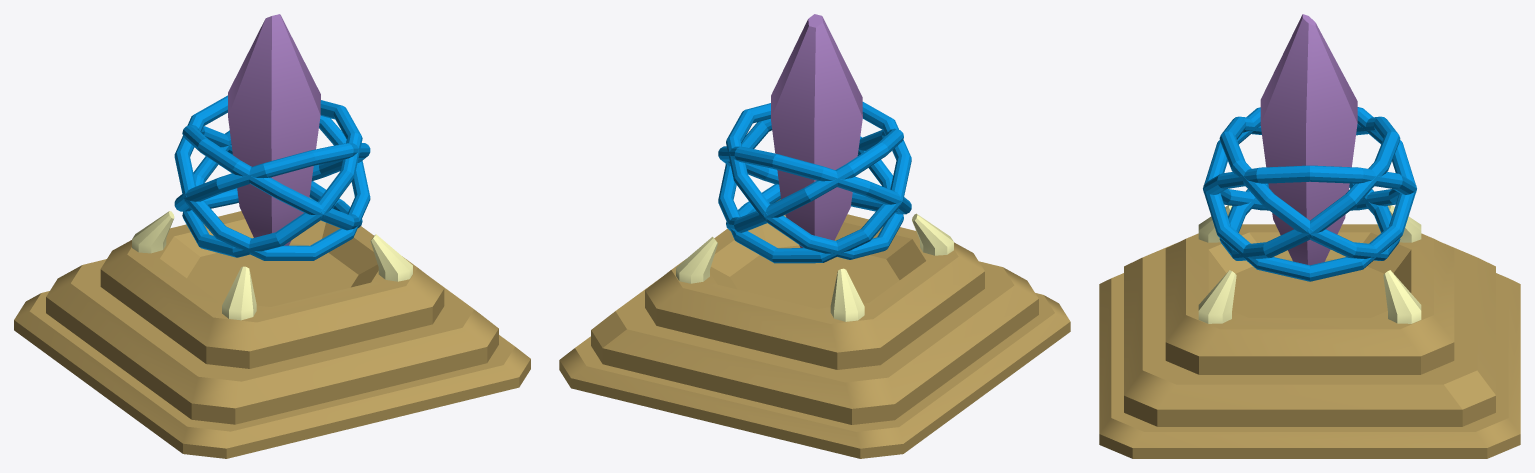
File: Cystal.fbx
The picture shows the model from 3 angles, left to right: view 1: azimuth 30°, elevation 25°; view 2: azimuth 150°, elevation 25°; view 3: azimuth 270°, elevation 25°; orthographic projection. The views are drawn at different scales.
Parts seen in each view (by area): view 1: Base, Crystal, Brace_2, Brace_4, Brace__1, Brace_3, Spick_2, Spick_3, Spick_4; view 2: Base, Crystal, Brace__1, Brace_4, Brace_2, Brace_3, Spick_4, Spick_1, Spick_2; view 3: Base, Crystal, Brace_3, Brace_4, Brace_2, Brace__1, Spick_1, Spick_3, Spick_4, Spick_2.
Boxes of the visible parts, box(x1,y1,x2,y2) form: Base: box(14, 211, 530, 458); Crystal: box(228, 14, 320, 245); Brace_2: box(174, 95, 370, 260); Brace_4: box(182, 100, 362, 257); Brace__1: box(174, 143, 370, 211); Brace_3: box(182, 125, 362, 230); Spick_2: box(222, 266, 256, 320); Spick_3: box(370, 234, 412, 281); Spick_4: box(132, 211, 174, 253); Base: box(559, 214, 1070, 458); Crystal: box(771, 14, 862, 247); Brace__1: box(718, 102, 911, 263); Brace_4: box(726, 103, 903, 259); Brace_2: box(718, 146, 911, 214); Brace_3: box(726, 128, 903, 232); Spick_4: box(830, 268, 864, 321); Spick_1: box(676, 236, 717, 283); Spick_2: box(912, 213, 953, 255); Base: box(1099, 224, 1520, 458); Crystal: box(1260, 14, 1357, 265); Brace_3: box(1203, 107, 1416, 281); Brace_4: box(1203, 165, 1416, 210); Brace_2: box(1219, 116, 1400, 260); Brace__1: box(1219, 116, 1400, 260); Spick_1: box(1383, 270, 1421, 323); Spick_3: box(1198, 270, 1236, 323); Spick_4: box(1387, 205, 1421, 242); Spick_2: box(1198, 205, 1232, 242).
Size of the model in its own units: 10.36 by 9.6 by 10.36.
